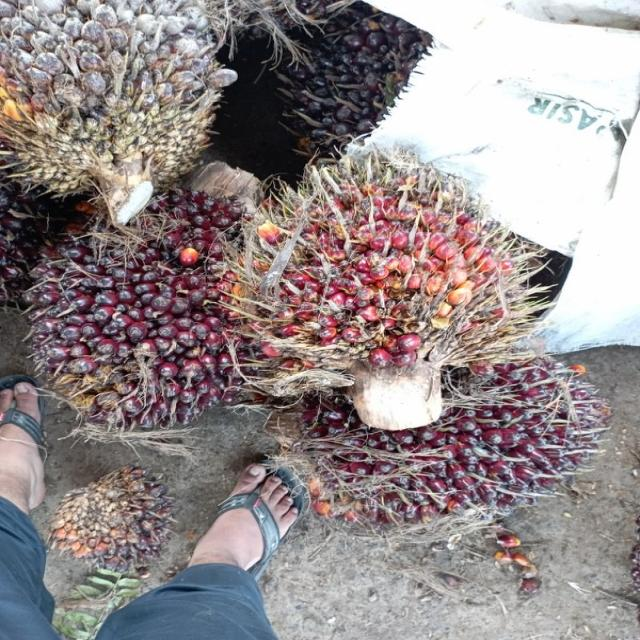fraksi 1: (0, 152, 364, 482)
fraksi 3: (193, 119, 592, 461)
